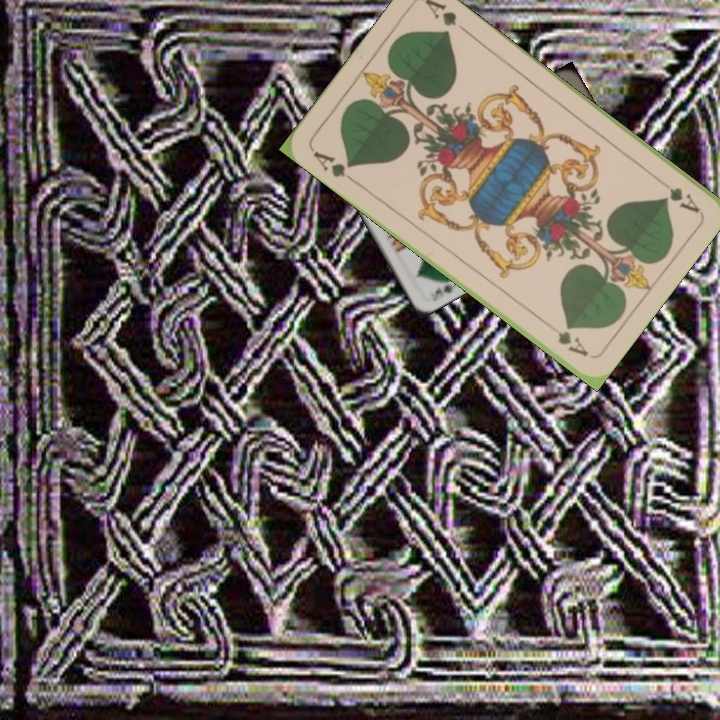GA: (308, 146, 359, 186), (662, 183, 703, 216)
GK: (426, 280, 456, 304)
